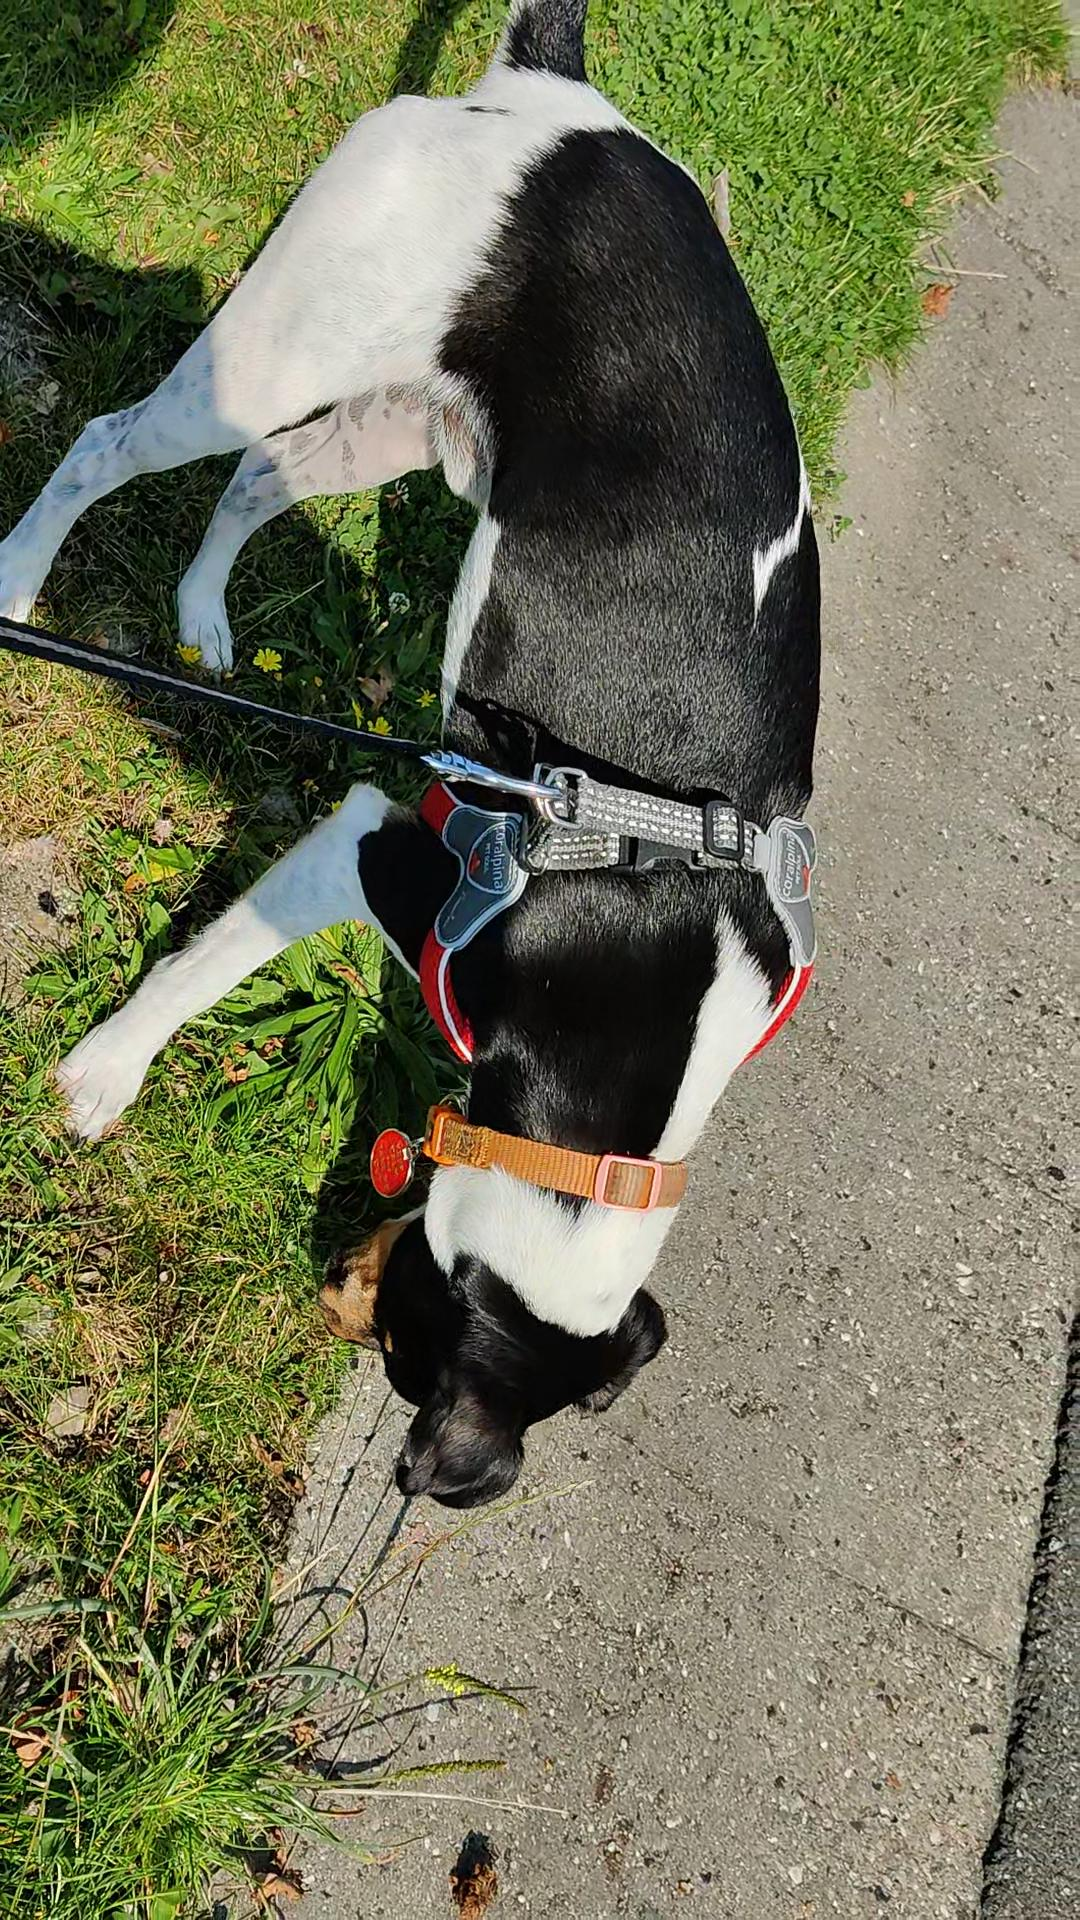Dog: (0, 0, 835, 1527)
